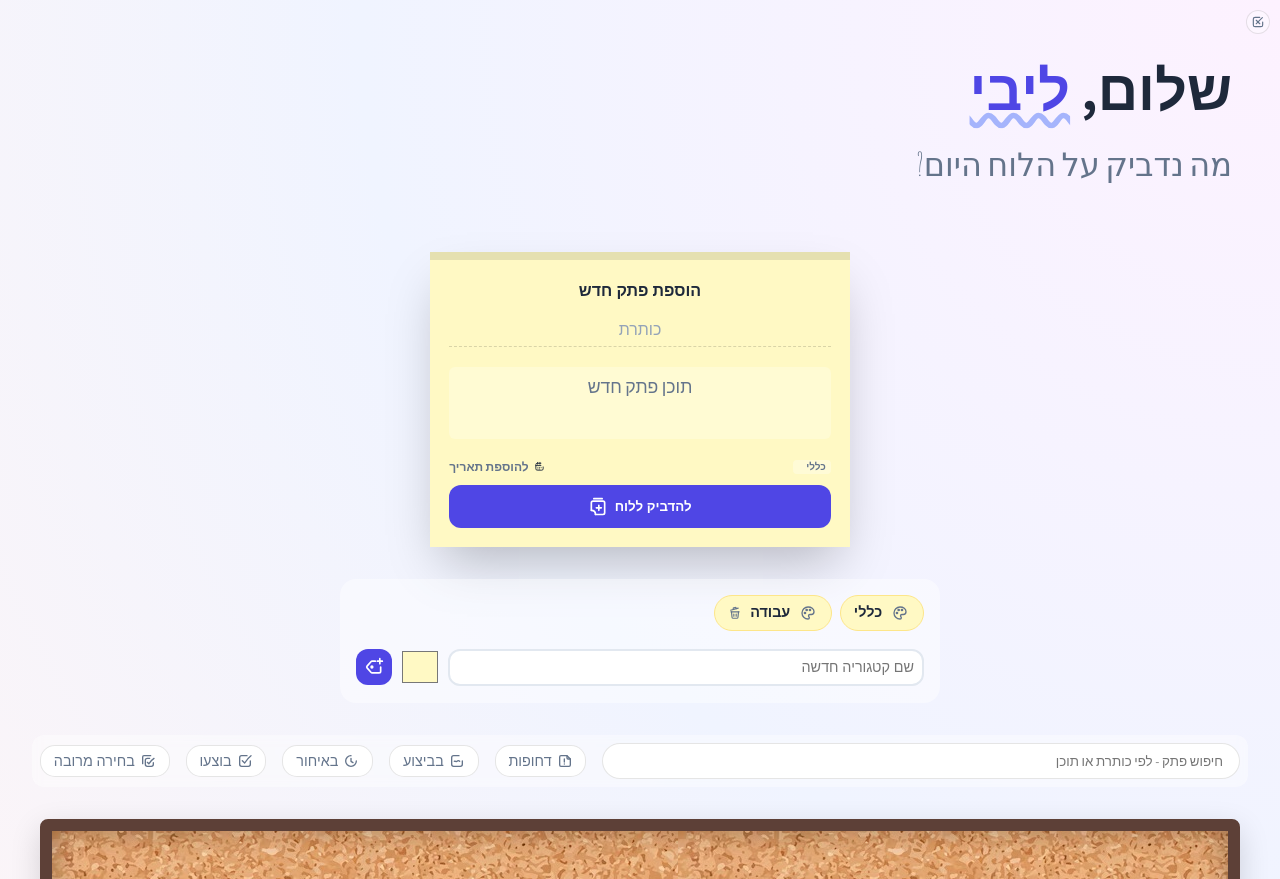
Scenario: filtering › the important filter shows only important notes, and all notes again when switched off
This screenshot has width=1280, height=879.
Click the button "דחופות".
click(540, 761)  # box [495,745,586,777]
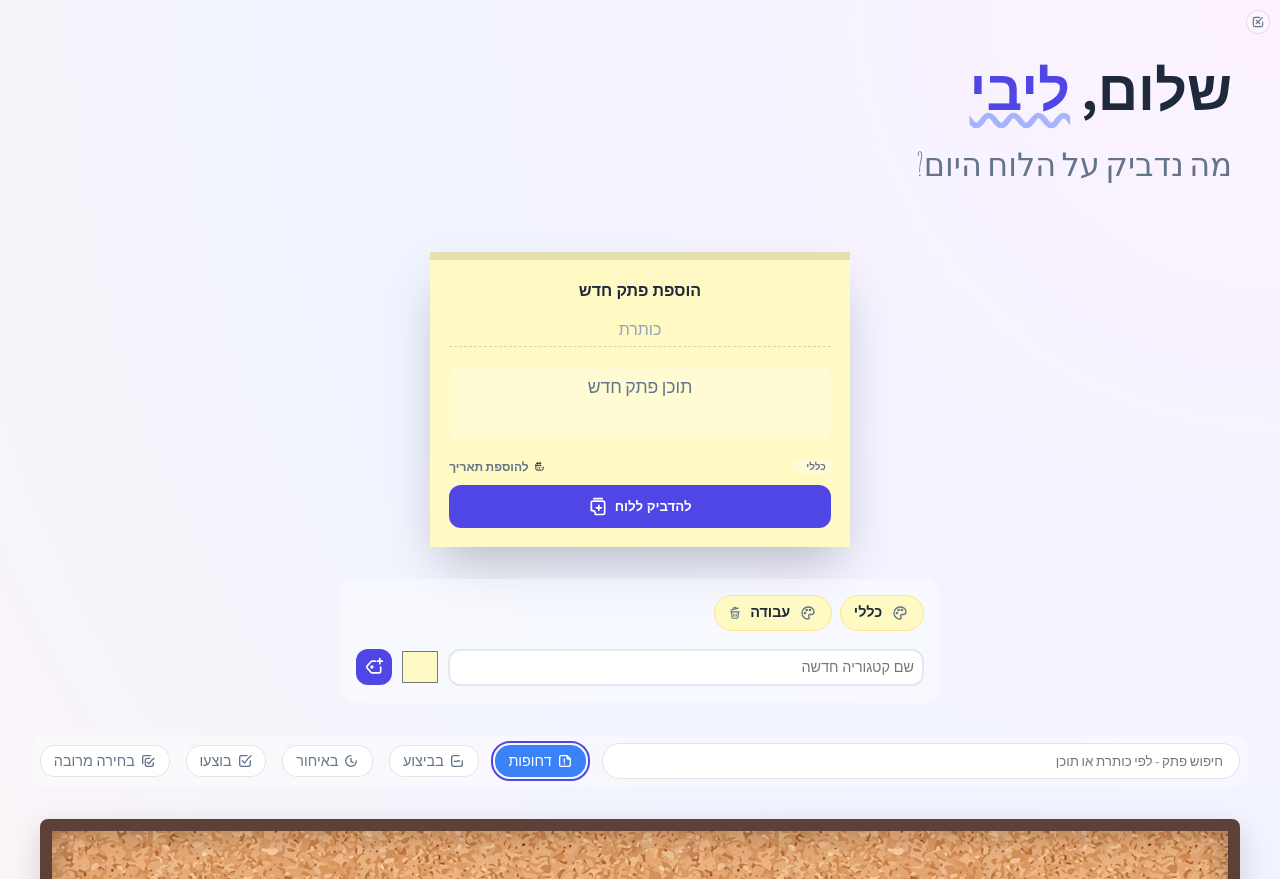
Click the button "דחופות".
click(540, 761)  # box [495,745,586,777]
(page scrolled)
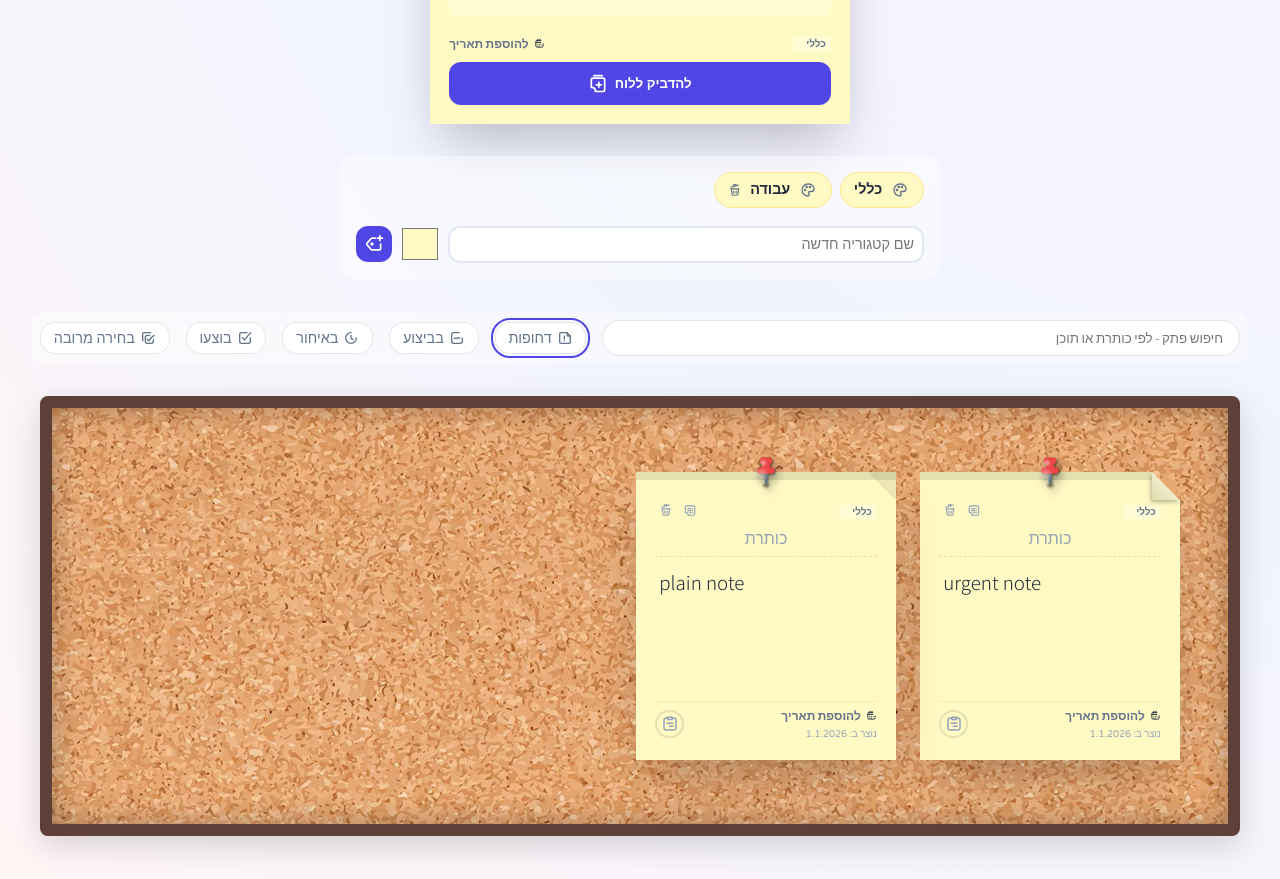
Now the field "plain note" is shown, box [659,570,744,596]
